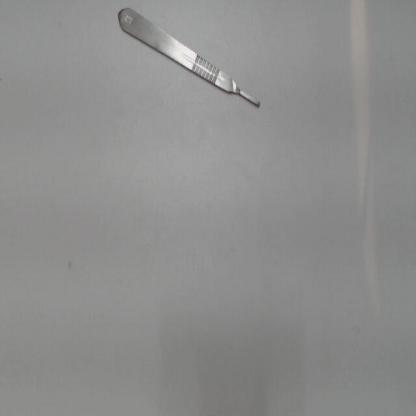No.3 BP Handle: (111, 3, 267, 115)
